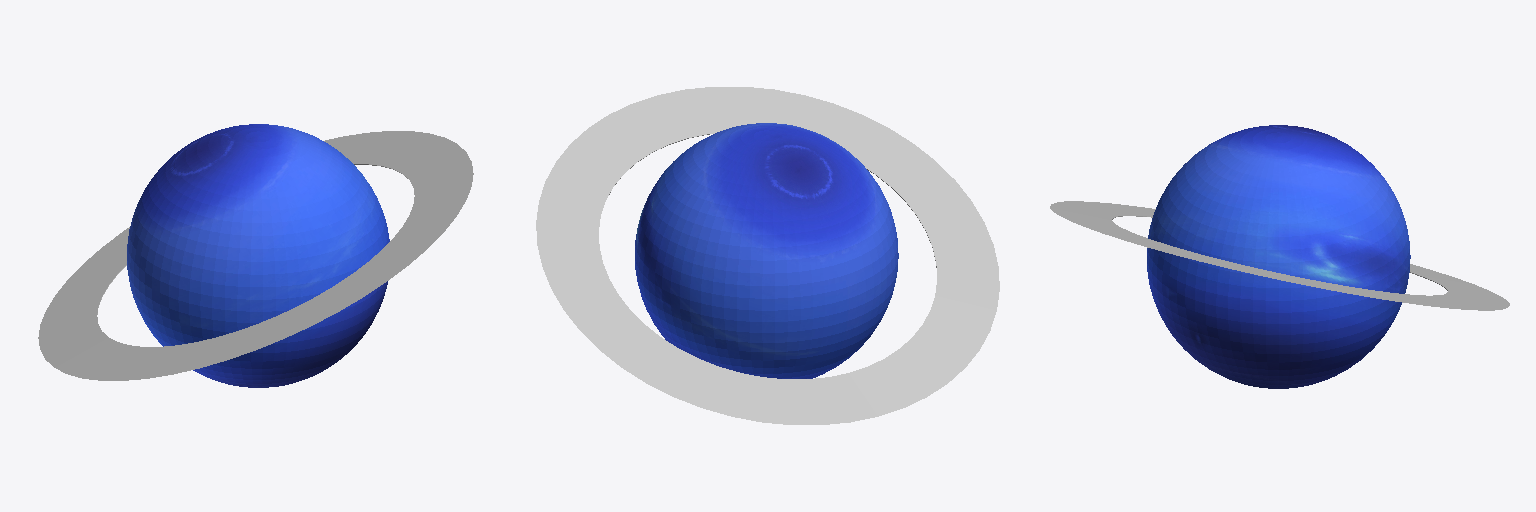
3 views of the same model, side by side, from view 1: azimuth 30°, elevation 25°; view 2: azimuth 150°, elevation 25°; view 3: azimuth 270°, elevation 25° (orthographic).
Visible parts, largest first — view 1: Sphere, Torus.002; view 2: Torus.002, Sphere; view 3: Sphere, Torus.002.
Part boxes in pixels (left/top/right/bottom): Sphere: left=127, top=124, right=389, bottom=387; Torus.002: left=38, top=131, right=473, bottom=380; Torus.002: left=536, top=87, right=999, bottom=424; Sphere: left=635, top=123, right=898, bottom=378; Sphere: left=1147, top=125, right=1410, bottom=388; Torus.002: left=1050, top=201, right=1509, bottom=310.
Bounding box in the file's own units: 3.38 × 2 × 3.48.
Materials: 2 (1 with a texture image).